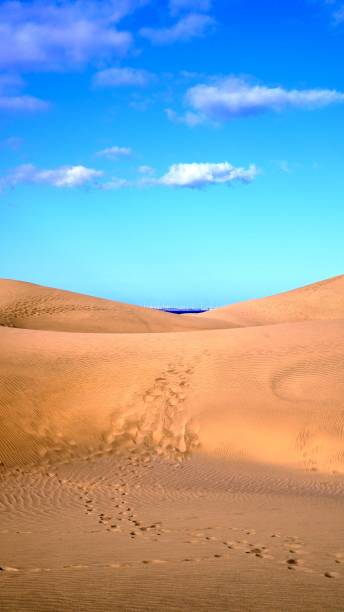human_footprint: (45, 455, 343, 579), (60, 500, 343, 579), (38, 448, 161, 538), (104, 361, 198, 462), (52, 456, 161, 538), (179, 526, 343, 578), (183, 527, 343, 577), (78, 473, 165, 539), (141, 361, 198, 459), (0, 550, 232, 573), (141, 364, 197, 458), (181, 527, 272, 558), (276, 534, 340, 577), (282, 536, 311, 572), (323, 552, 343, 577), (246, 544, 272, 558), (334, 552, 343, 568), (0, 565, 19, 572), (323, 570, 339, 577)
